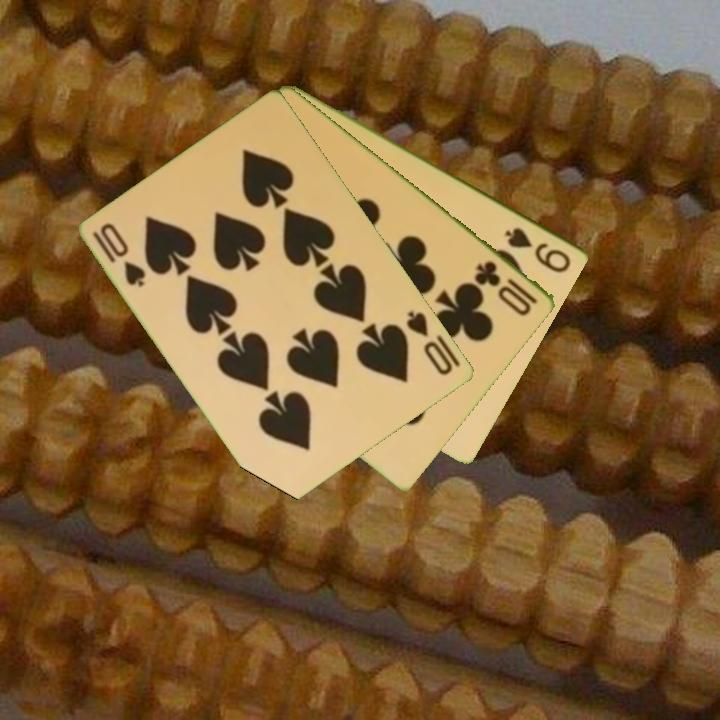10c: (471, 256, 542, 319)
10s: (89, 219, 149, 291), (403, 307, 457, 379)
9s: (501, 223, 575, 276)
